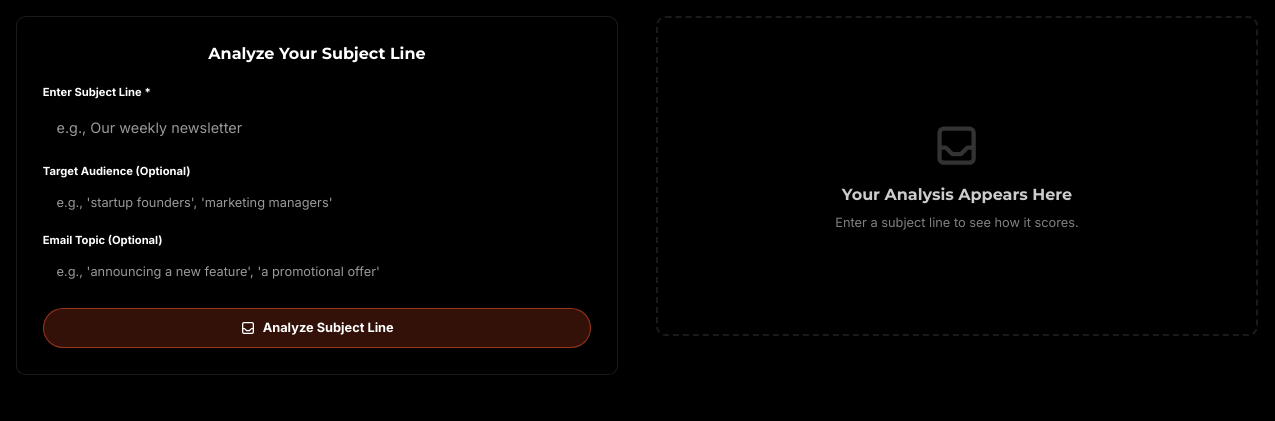
AIEmailSubjectLineTesterSection Component › handles AI analysis errors gracefully
The image size is (1275, 421).
In the field labelled "Enter Subject Line *": (317, 129) [43,107,591,150], type "Test Subject"
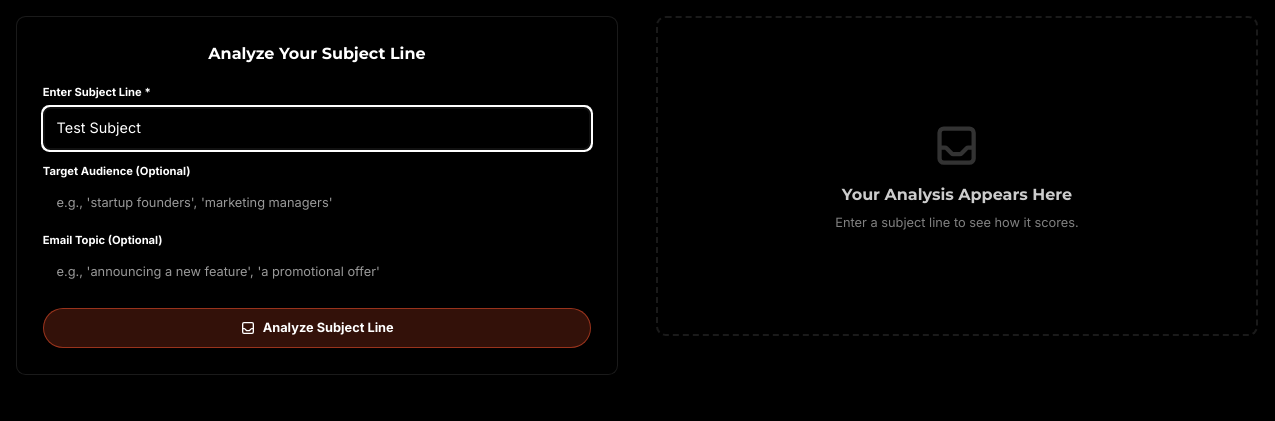
Click the button "Analyze Subject Line": (317, 328) [43,308,591,348]
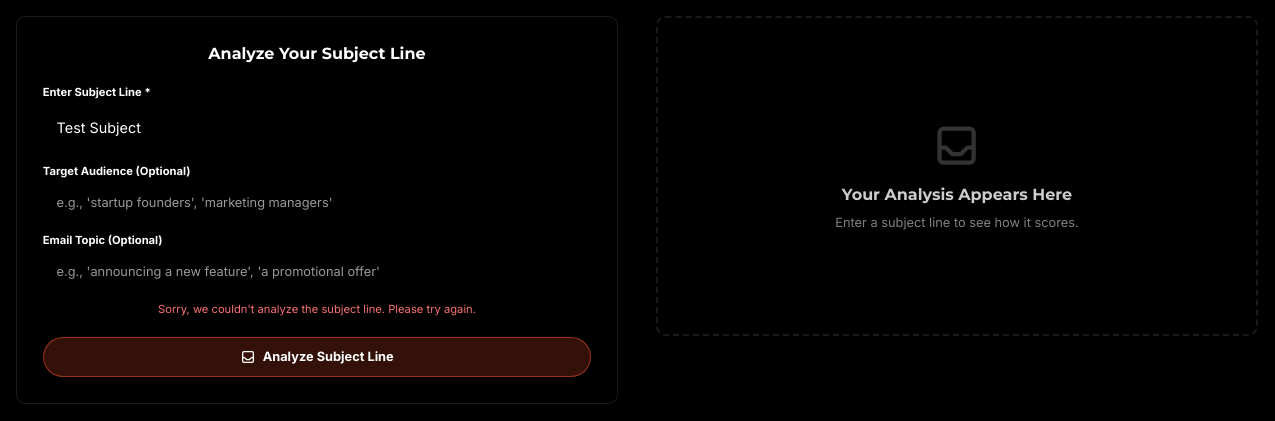
Expected: the text "Sorry, we couldn't analyze the subject line. Please try again." is shown, [158,302,476,316]
